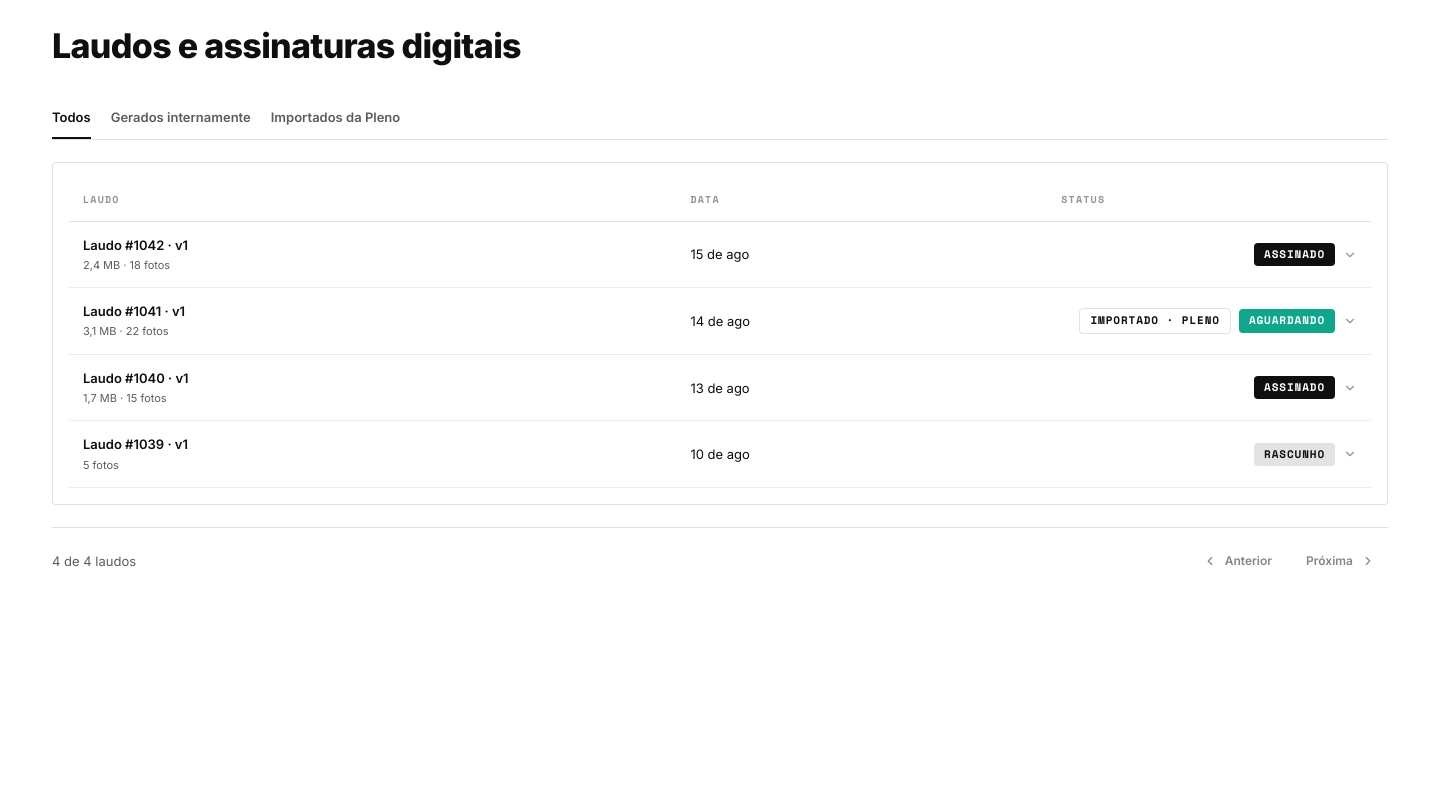
it: Laudos Component › should render request signature button only for finalized laudos
The width and height of the screenshot is (1440, 810).
Step 1. Click the button "Laudo #1041 · v1" → (720, 322), box [69, 288, 1371, 355]
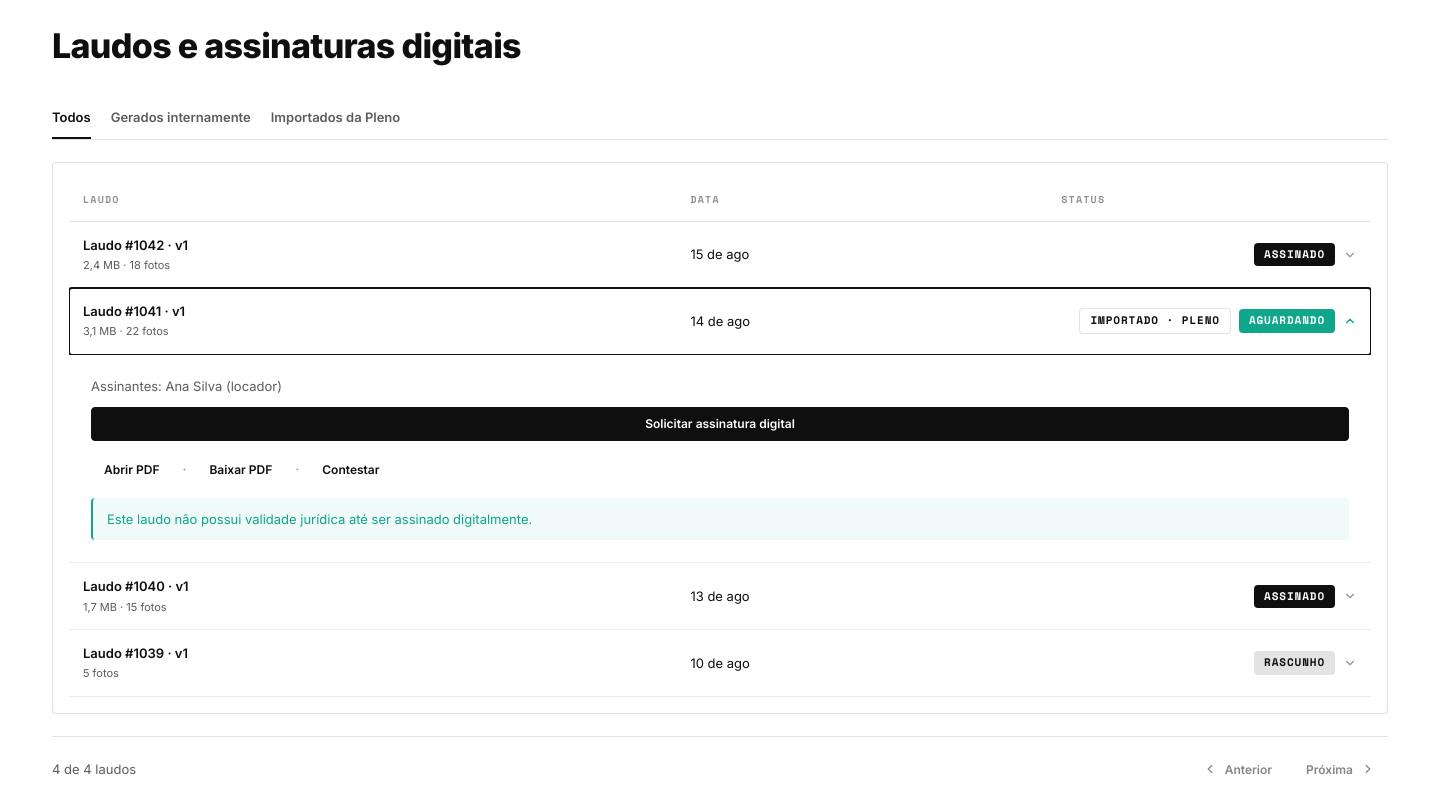
Result: the number of buttons "Solicitar assinatura digital" is 1 at [91, 407, 1349, 441]
